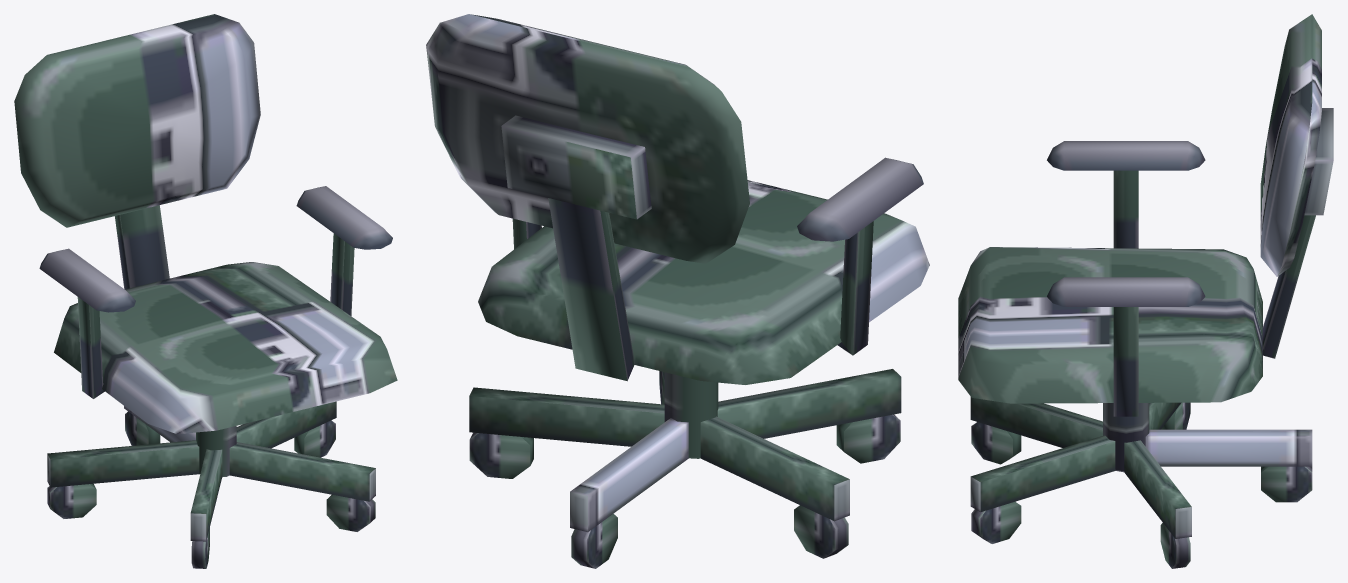
Rendered from int_scx_chairS.dae.
3 views of the same model, side by side, from view 1: azimuth 30°, elevation 25°; view 2: azimuth 150°, elevation 25°; view 3: azimuth 270°, elevation 25° (orthographic). The views are drawn at different scales.
Parts seen in each view (by area): view 1: int_scx_chairS; view 2: int_scx_chairS; view 3: int_scx_chairS.
Boxes of the visible parts, x1,y1,x2,y2 form: int_scx_chairS: (14, 14, 397, 568); int_scx_chairS: (426, 14, 929, 568); int_scx_chairS: (958, 14, 1333, 568).
Size of the model in its own units: 27 by 35.26 by 27.23.
Materials: 1 (1 with a texture image).
